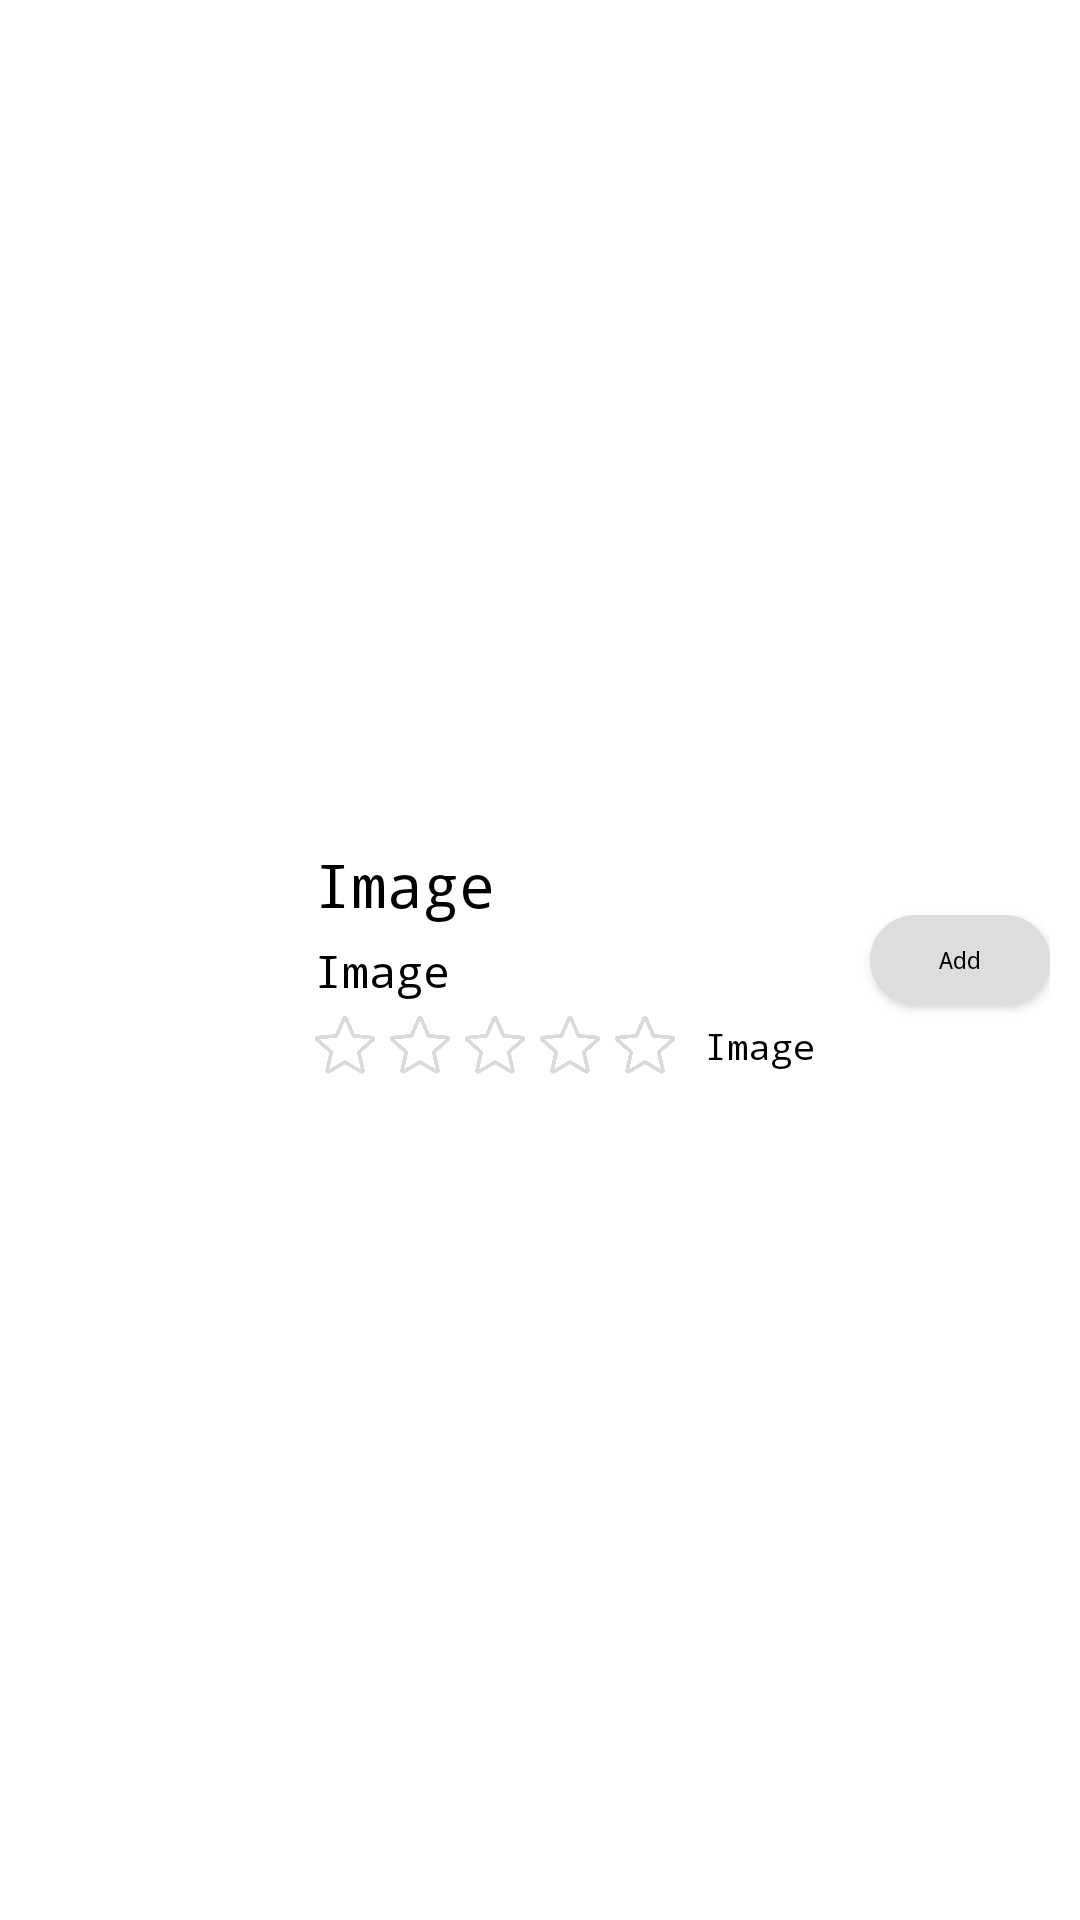

Where icons sit on this 1080×1920 app screen, as (x1, y1, x2, y2):
Star: (315, 1016, 375, 1074), (390, 1016, 450, 1074), (465, 1016, 525, 1074), (540, 1016, 600, 1074), (615, 1016, 675, 1074)
